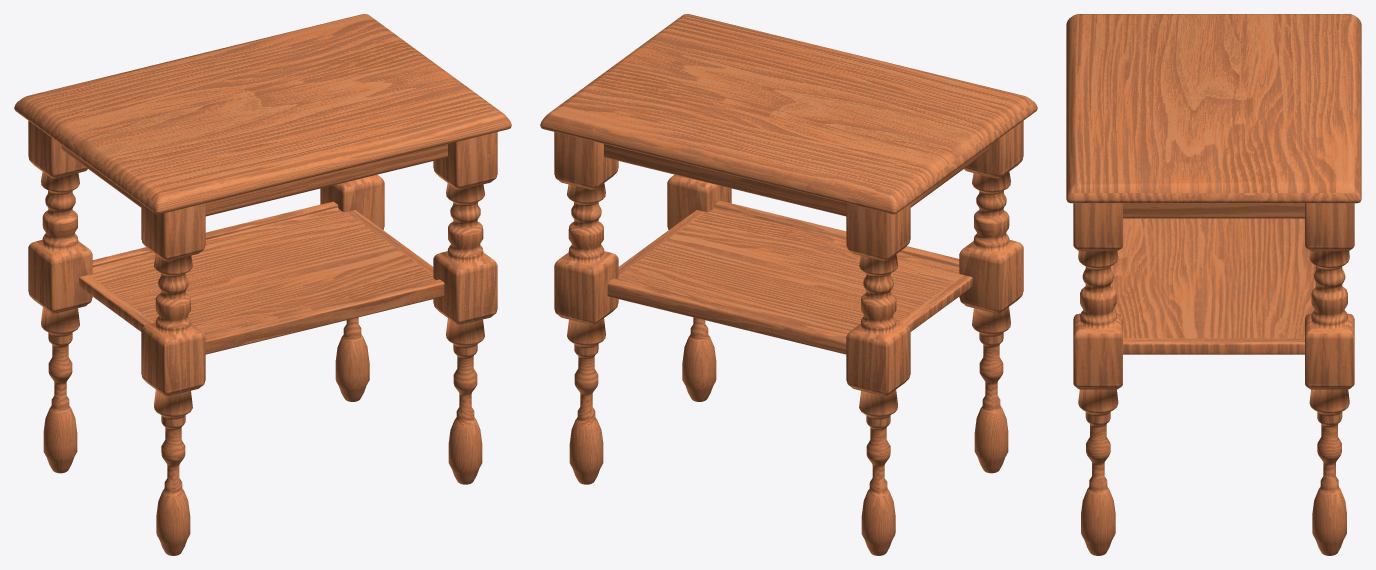
The model's file is Small table.fbx.
The picture shows the model from 3 angles, left to right: view 1: azimuth 30°, elevation 25°; view 2: azimuth 150°, elevation 25°; view 3: azimuth 270°, elevation 25°; orthographic projection. The views are drawn at different scales.
Visible parts, largest first — view 1: Cube.002, Cube.004, Cube.001; view 2: Cube.002, Cube.004, Cube.001; view 3: Cube.002, Cube.001, Cube.004.
Boxes of the visible parts, bbox=[...] form: Cube.002: bbox=[14, 14, 511, 216]; Cube.004: bbox=[28, 121, 497, 555]; Cube.001: bbox=[79, 201, 444, 354]; Cube.002: bbox=[540, 14, 1037, 216]; Cube.004: bbox=[554, 121, 1023, 555]; Cube.001: bbox=[607, 200, 972, 354]; Cube.002: bbox=[1066, 14, 1361, 218]; Cube.001: bbox=[1110, 218, 1317, 354]; Cube.004: bbox=[1073, 203, 1354, 555].
Size of the model in its own units: 50 by 50 by 35.
